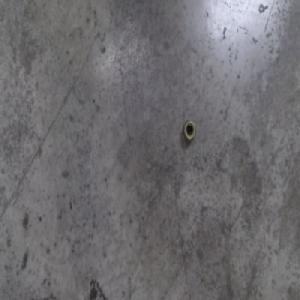Nut: (183, 120, 196, 143)
